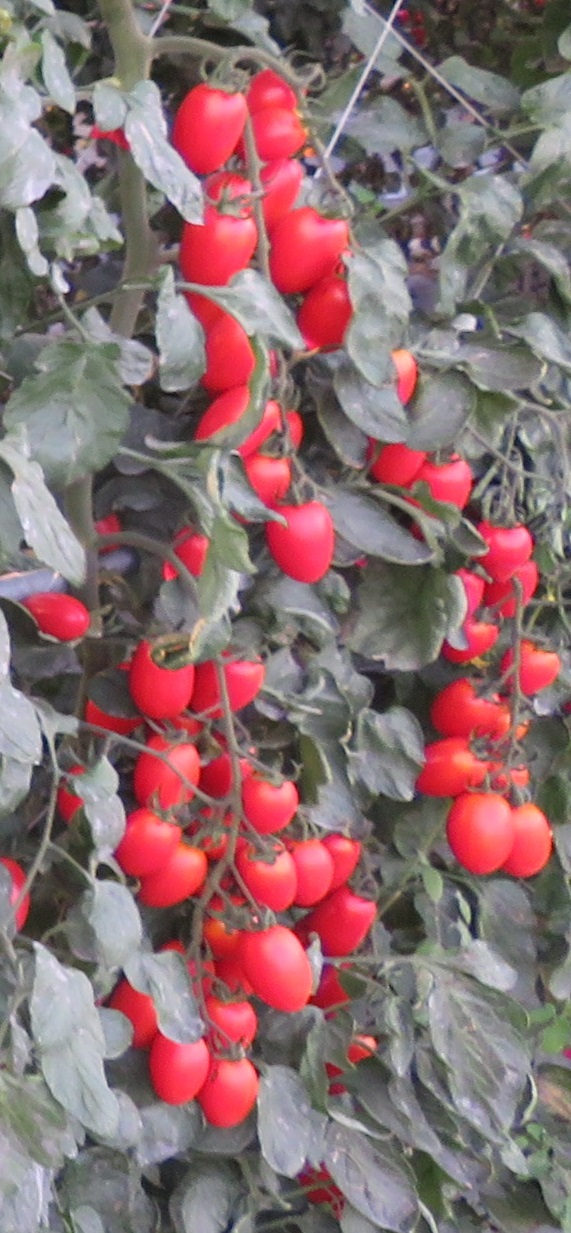red: (265, 203, 369, 288), (172, 208, 257, 296), (174, 86, 254, 177), (238, 918, 319, 1006), (434, 782, 510, 871), (265, 493, 336, 583), (127, 637, 195, 716), (306, 887, 382, 955), (130, 741, 200, 812), (138, 845, 220, 905), (200, 316, 260, 397), (472, 509, 533, 584), (205, 1054, 272, 1122), (238, 840, 300, 913), (119, 810, 188, 875), (293, 283, 357, 352), (146, 1037, 212, 1103), (198, 655, 265, 720), (140, 743, 206, 808), (20, 595, 107, 644), (411, 744, 489, 797), (244, 774, 304, 840), (508, 805, 559, 880), (430, 680, 503, 732), (252, 111, 312, 162), (294, 838, 337, 903), (206, 1000, 266, 1043), (420, 458, 481, 500), (247, 69, 299, 112)
